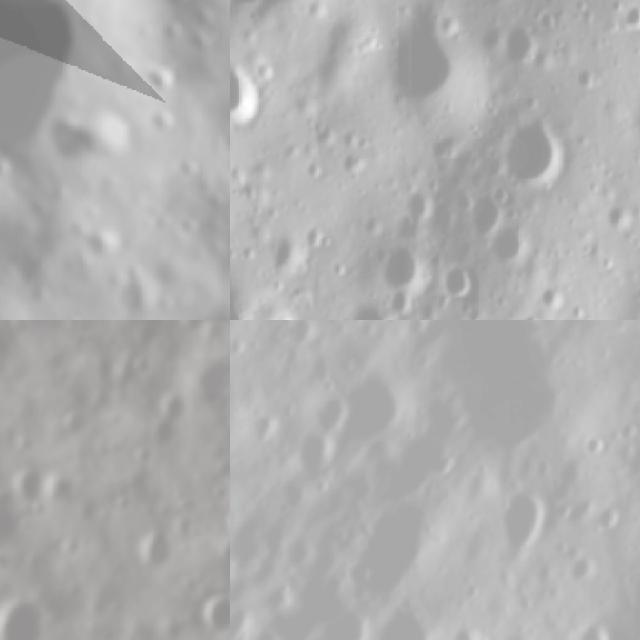crater: (326, 486, 454, 626), (34, 72, 154, 190), (316, 358, 422, 476), (367, 418, 464, 530), (384, 0, 470, 120), (475, 473, 567, 575), (499, 110, 570, 193), (230, 494, 289, 591), (126, 32, 200, 106), (272, 420, 346, 494), (344, 600, 455, 640), (552, 542, 612, 606), (130, 520, 191, 582), (301, 601, 386, 640), (136, 89, 192, 145), (484, 220, 538, 278), (0, 591, 63, 640), (579, 494, 635, 549), (264, 320, 328, 368), (230, 59, 272, 132), (378, 235, 433, 290), (185, 349, 230, 412), (458, 189, 508, 245), (425, 611, 518, 640), (439, 258, 487, 314), (499, 18, 548, 72), (571, 422, 619, 472), (166, 144, 214, 192), (132, 0, 218, 26), (561, 610, 626, 640), (194, 588, 230, 640), (8, 468, 48, 510), (345, 294, 408, 320), (601, 193, 640, 234), (234, 613, 289, 640), (230, 597, 263, 640), (60, 403, 95, 442), (404, 320, 468, 337), (0, 145, 23, 188), (624, 0, 640, 39)
